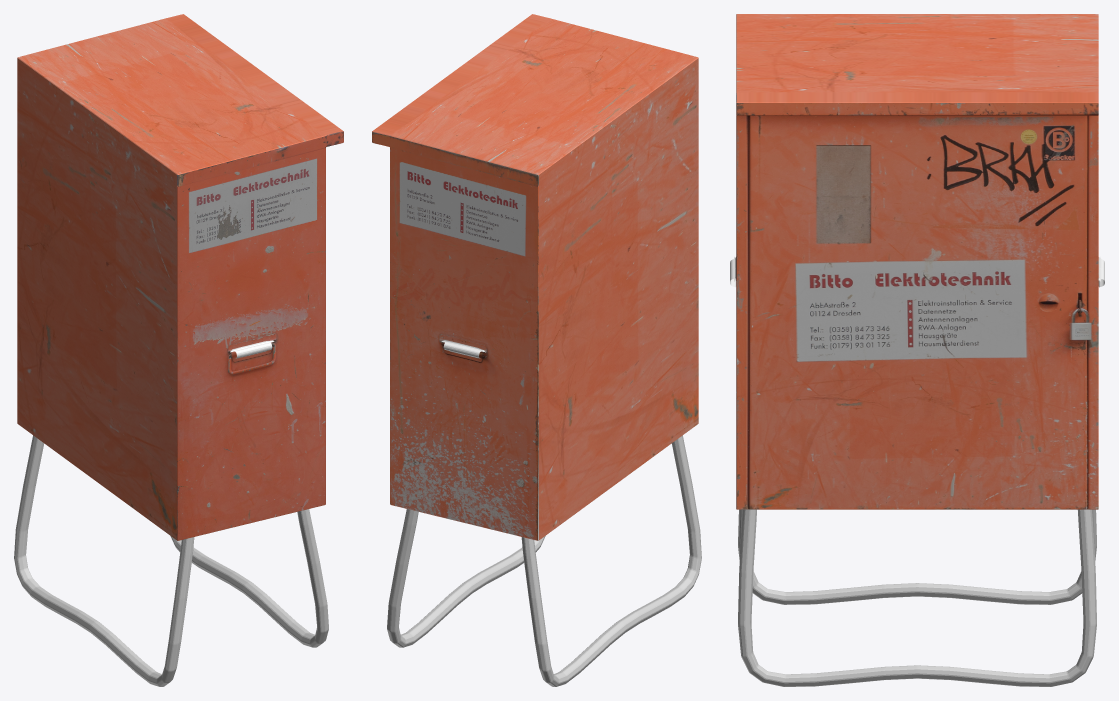
File: construction_site_electrical_box_german.glb
3 views of the same model, side by side, from view 1: azimuth 30°, elevation 25°; view 2: azimuth 150°, elevation 25°; view 3: azimuth 270°, elevation 25° (orthographic). The views are drawn at different scales.
Parts seen in each view (by area): view 1: Object_2, Object_3; view 2: Object_2, Object_3; view 3: Object_2, Object_3.
Part boxes in pixels (x1,y1,x2,y2): Object_2: (17,14,343,540); Object_3: (14,435,328,686); Object_2: (372,14,698,540); Object_3: (387,435,701,686); Object_2: (730,14,1104,509); Object_3: (738,509,1096,686).
Bounding box in the file's own units: 0.4381 × 1.26 × 0.7216.
Materials: 2 (1 with a texture image).
